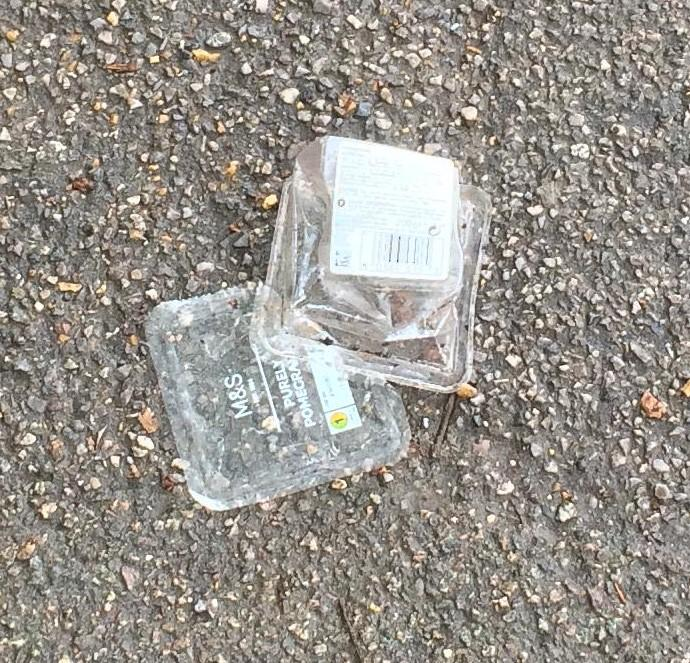Plastic: (128, 260, 430, 528), (256, 133, 490, 397)
